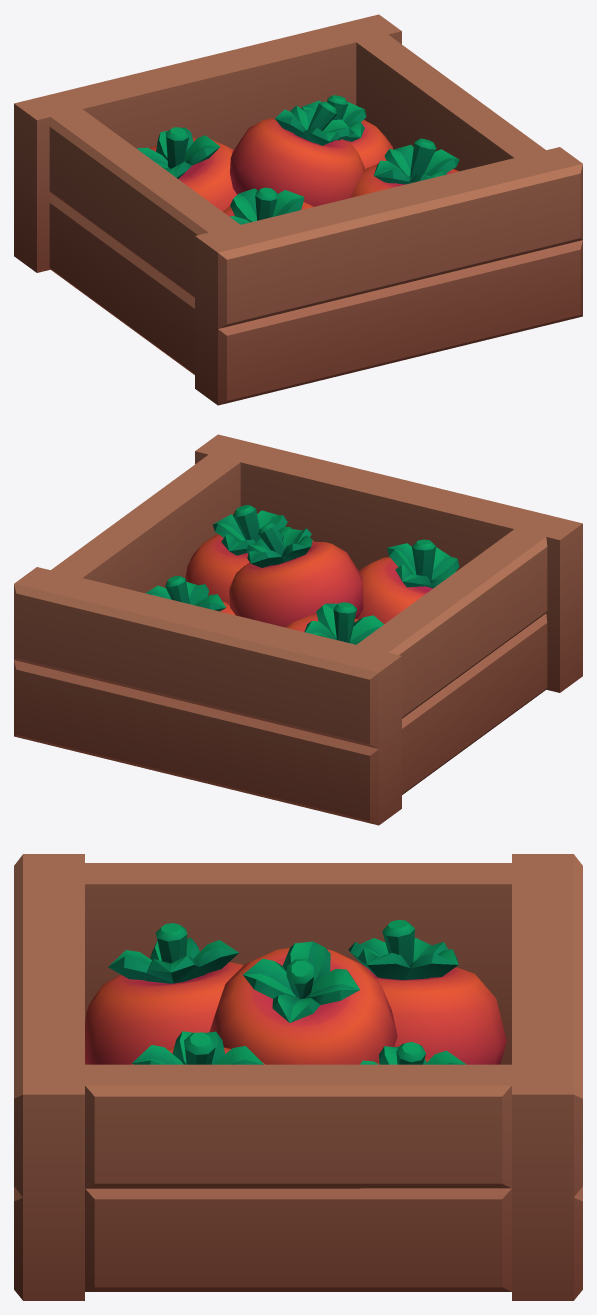
The model's file is crate_tomatoes.obj.
The picture shows the model from 3 angles, top to bottom: view 1: azimuth 30°, elevation 25°; view 2: azimuth 150°, elevation 25°; view 3: azimuth 270°, elevation 25°; orthographic projection. The views are drawn at different scales.
Parts seen in each view (by area): view 1: crate_tomatoes_Cube.230; view 2: crate_tomatoes_Cube.230; view 3: crate_tomatoes_Cube.230.
Part boxes in pixels (x1,y1,x2,y2): crate_tomatoes_Cube.230: (14, 14, 582, 405); crate_tomatoes_Cube.230: (14, 434, 582, 825); crate_tomatoes_Cube.230: (14, 854, 582, 1300).
Bounding box in the file's own units: 2 × 0.9233 × 2.
Materials: 1 (1 with a texture image).
